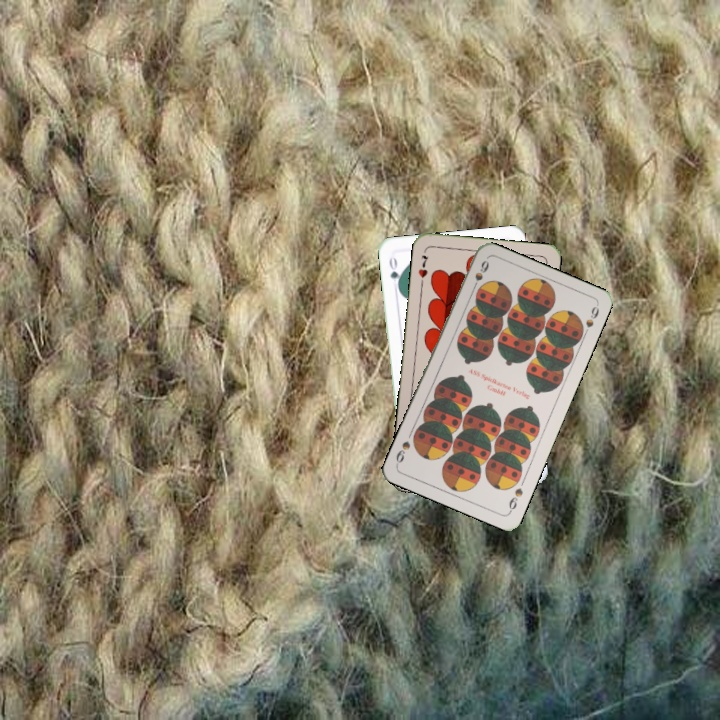GO: (385, 252, 403, 292)
H7: (414, 251, 431, 288)
S9: (468, 256, 492, 295), (505, 484, 525, 515)
